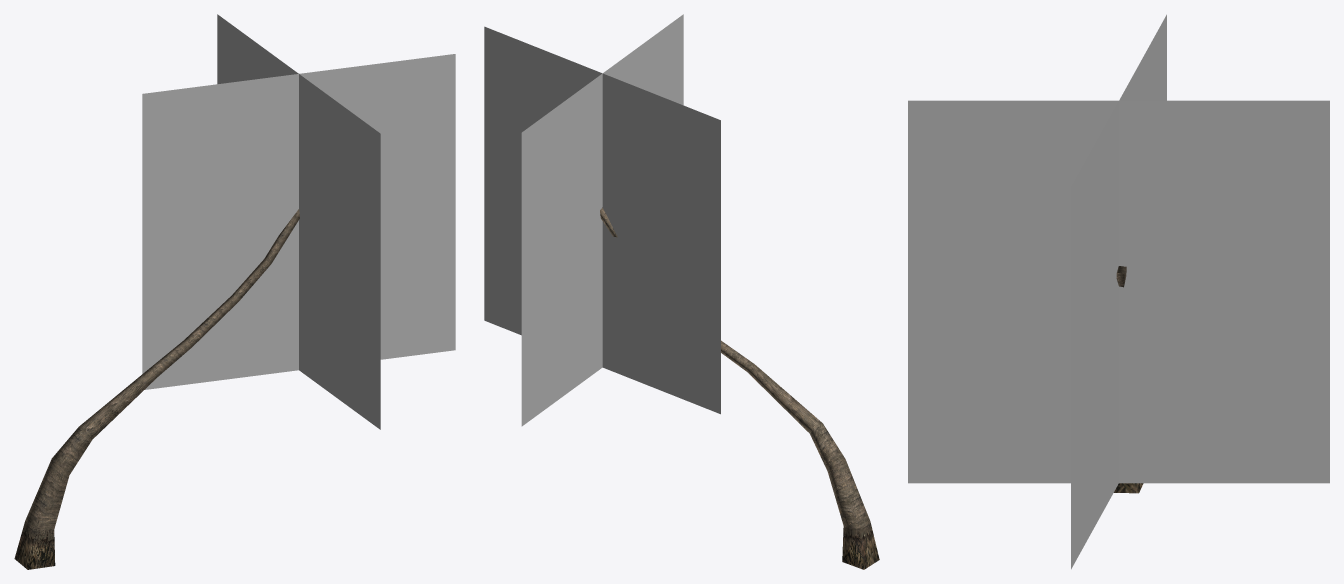
File: nature_palm_coconat_lod02.fbx
The picture shows the model from 3 angles, left to right: view 1: azimuth 30°, elevation 25°; view 2: azimuth 150°, elevation 25°; view 3: azimuth 270°, elevation 25°; orthographic projection. The views are drawn at different scales.
Visible parts, largest first — view 1: nature_palm_coconat_leaves_lod02, nature_palm_coconat_bark_lod02; view 2: nature_palm_coconat_leaves_lod02, nature_palm_coconat_bark_lod02; view 3: nature_palm_coconat_leaves_lod02.
Part boxes in pixels (x1=…): nature_palm_coconat_leaves_lod02: x1=142, y1=14, x2=455, y2=429; nature_palm_coconat_bark_lod02: x1=14, y1=209, x2=299, y2=569; nature_palm_coconat_leaves_lod02: x1=484, y1=14, x2=720, y2=426; nature_palm_coconat_bark_lod02: x1=600, y1=207, x2=879, y2=569; nature_palm_coconat_leaves_lod02: x1=908, y1=14, x2=1329, y2=569.
Bounding box in the file's own units: 1893 × 1866 × 1298.
